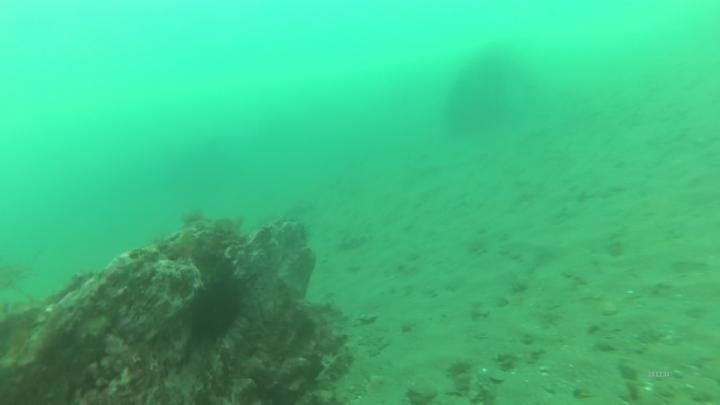echinus: (184, 274, 248, 344)
holothurian: (312, 338, 357, 391)
